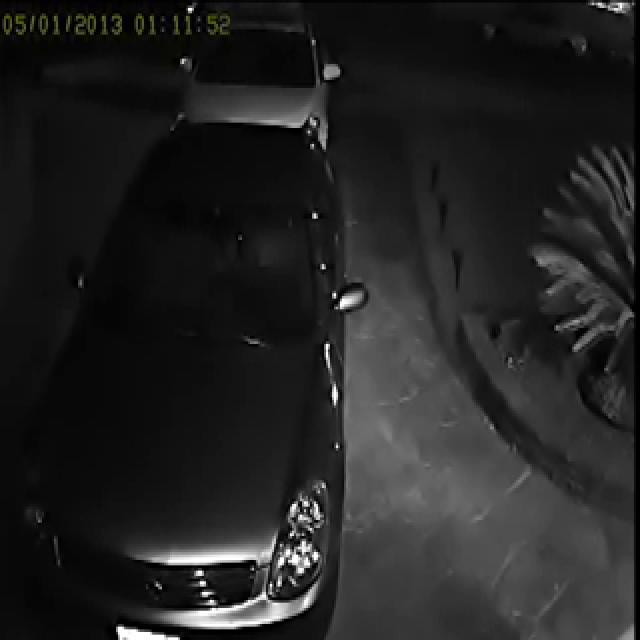vandalism: (116, 0, 486, 403)
